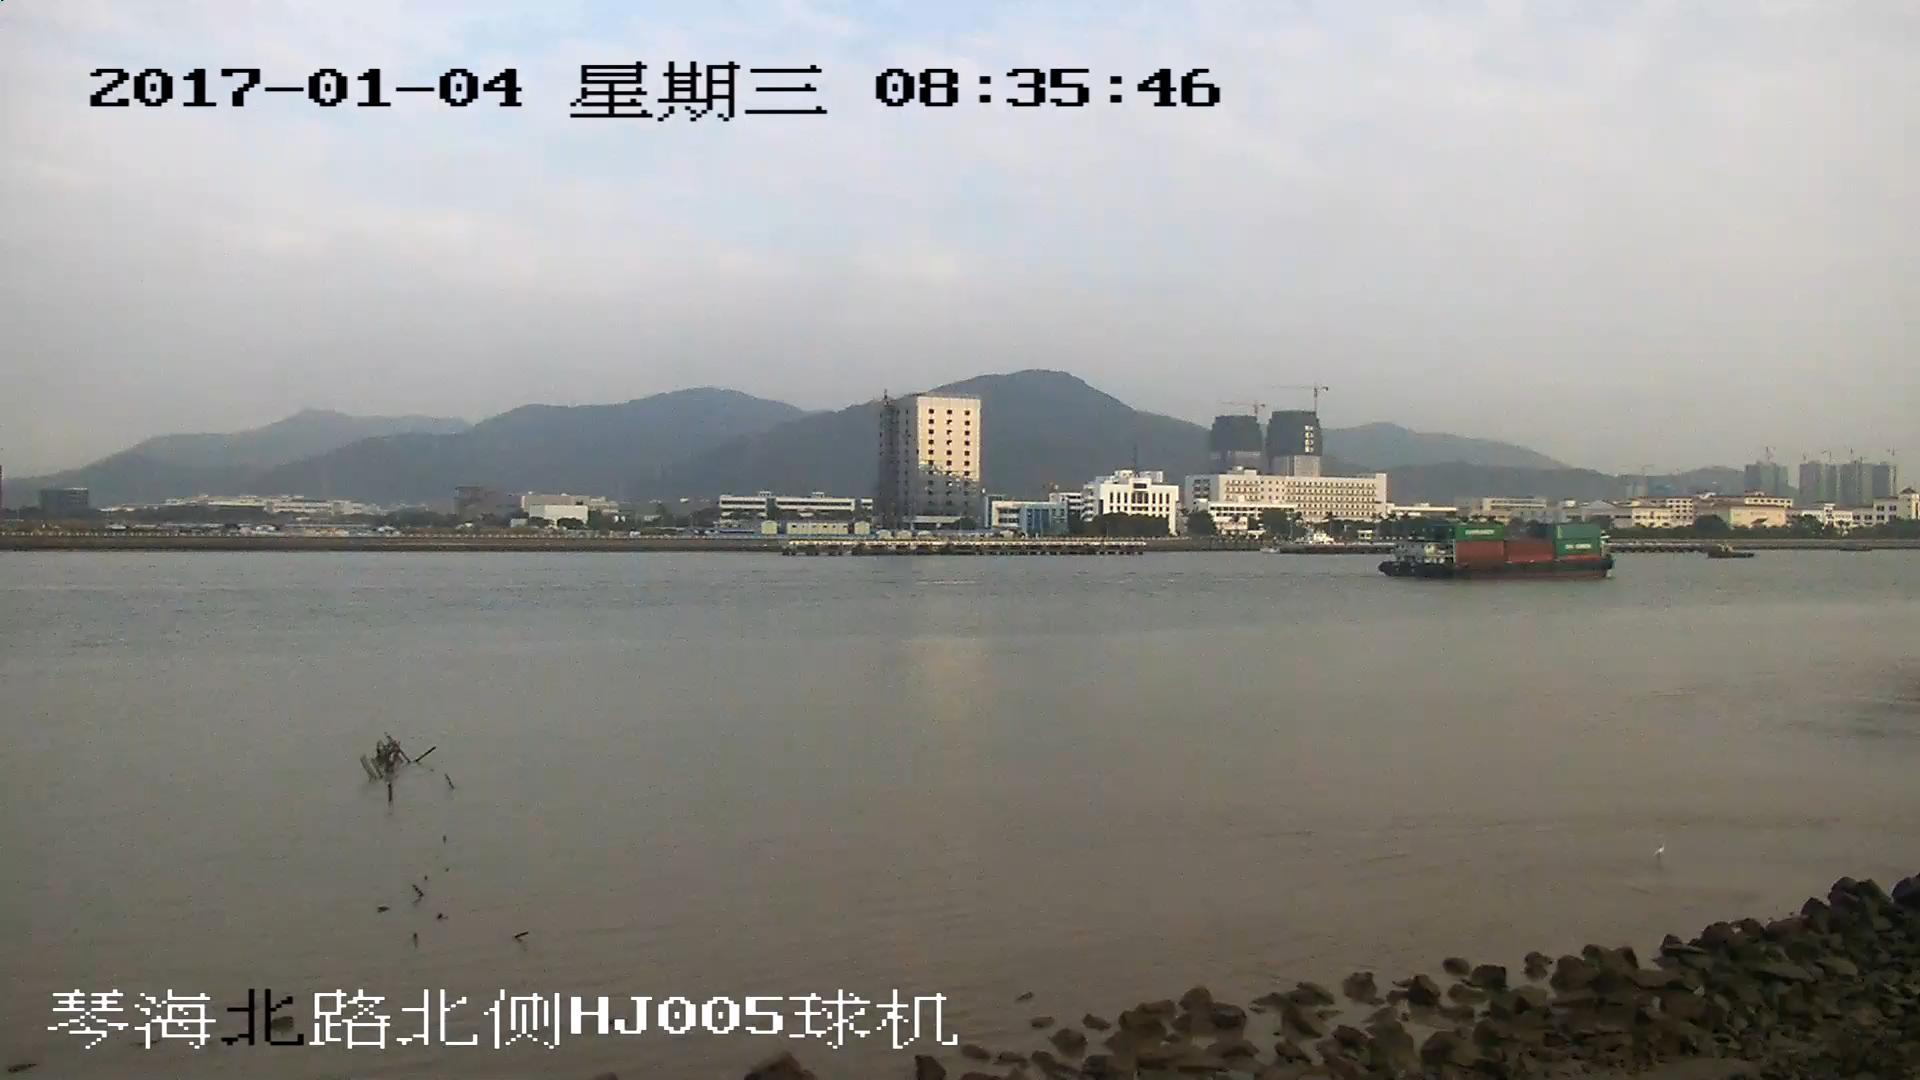Ship: (1385, 520, 1613, 580)
